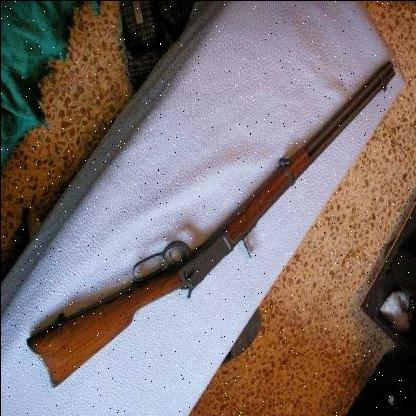rifle: (12, 49, 400, 401)
